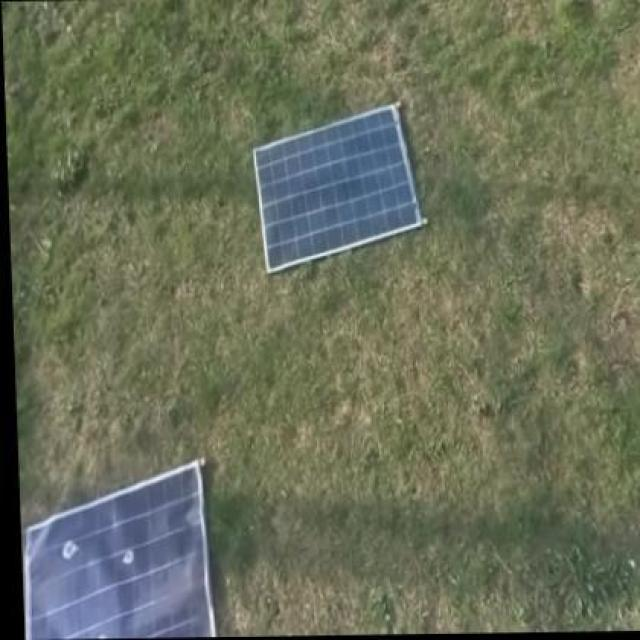soiled: (28, 460, 222, 637)
